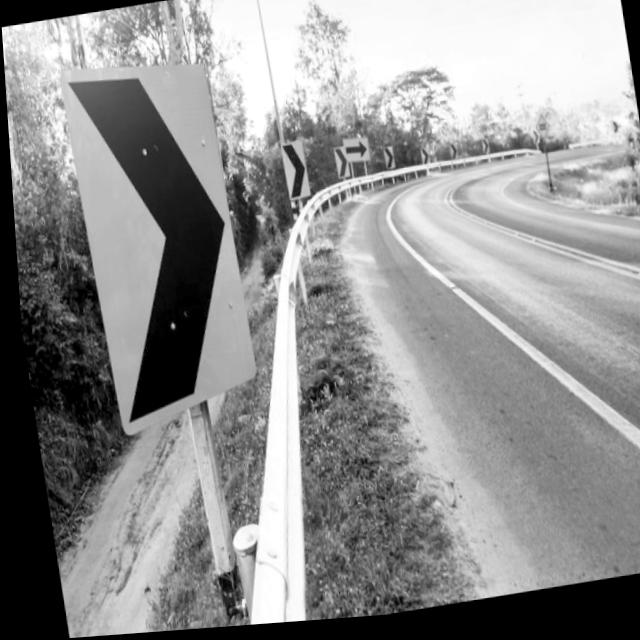cleat: (164, 0, 640, 627)
